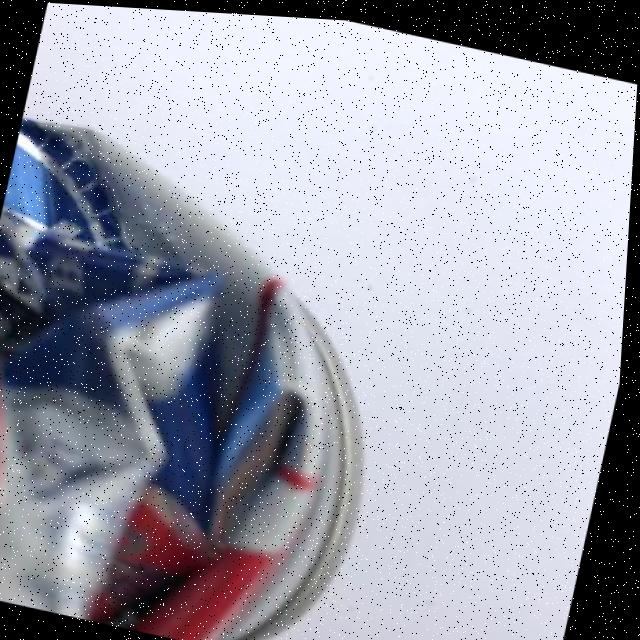metal: (0, 100, 444, 640)
